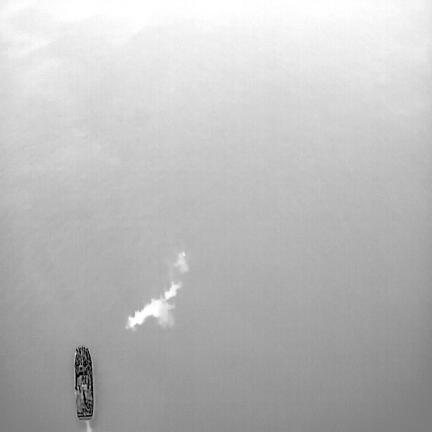flukeprints: (127, 297, 173, 329), (174, 251, 188, 273), (165, 283, 181, 300)
